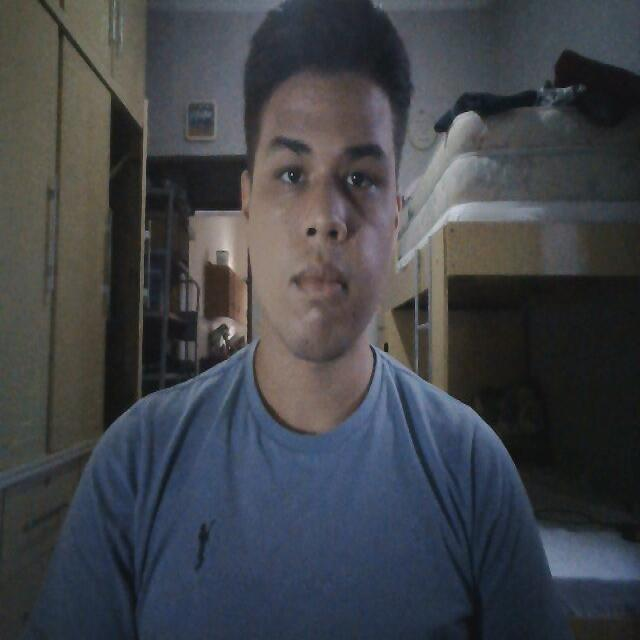acordado: (255, 86, 397, 352)
